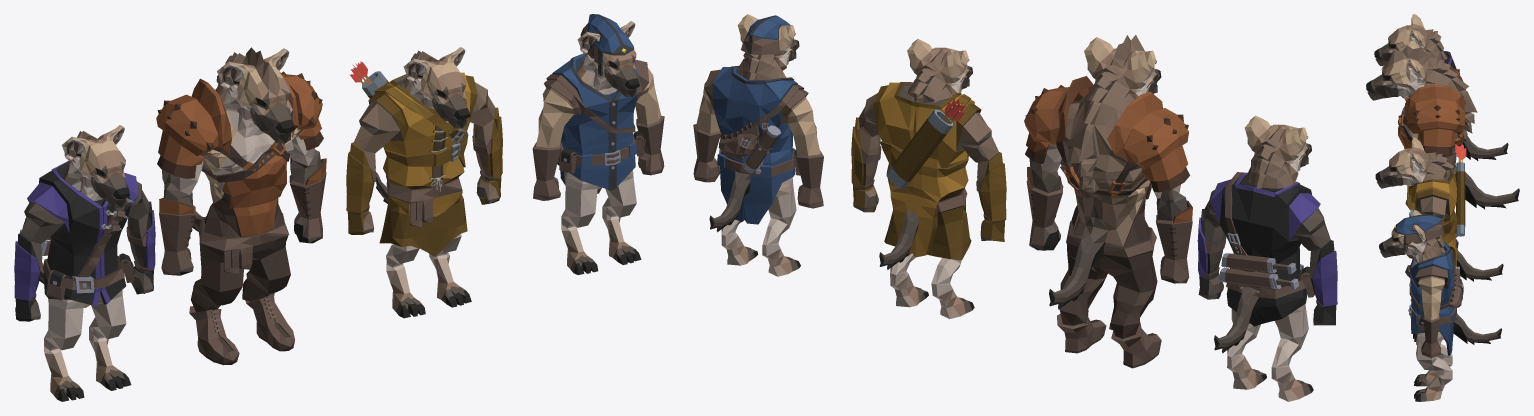
Rendered from gnoll_playerclasses.fbx.
3 views of the same model, side by side, from view 1: azimuth 30°, elevation 25°; view 2: azimuth 150°, elevation 25°; view 3: azimuth 270°, elevation 25° (orthographic). The views are drawn at different scales.
Visible parts, largest first — view 1: gnoll_11warriortri, gnoll_11a_archertri, gnoll_11roguetri, gnoll_11wizardtri; view 2: gnoll_11warriortri, gnoll_11a_archertri, gnoll_11roguetri, gnoll_11wizardtri; view 3: gnoll_11wizardtri, gnoll_11warriortri, gnoll_11a_archertri, gnoll_11roguetri.
Part boxes in pixels (x1,y1,x2,y2): gnoll_11warriortri: (156,47,326,365); gnoll_11a_archertri: (346,47,502,318); gnoll_11roguetri: (14,125,155,401); gnoll_11wizardtri: (532,14,664,274); gnoll_11warriortri: (1024,35,1192,368); gnoll_11a_archertri: (851,39,1006,318); gnoll_11roguetri: (1197,115,1337,401); gnoll_11wizardtri: (693,14,823,276); gnoll_11wizardtri: (1379,210,1501,401); gnoll_11warriortri: (1366,40,1519,277); gnoll_11a_archertri: (1375,137,1503,341); gnoll_11roguetri: (1374,14,1508,160).
Size of the model in its own units: 2320 by 1050 by 663.
